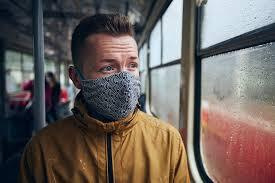mask: (75, 70, 147, 125)
